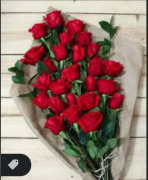RedRose: (80, 109, 105, 132), (76, 89, 103, 110), (61, 61, 81, 83), (102, 54, 125, 73), (30, 89, 50, 110), (41, 9, 64, 27), (51, 72, 69, 95), (22, 46, 45, 63), (107, 92, 128, 110), (62, 104, 81, 123), (69, 44, 87, 64), (27, 21, 48, 38), (45, 116, 64, 134), (100, 78, 121, 94), (52, 41, 69, 60), (87, 56, 104, 75), (68, 18, 87, 35), (35, 72, 53, 89), (57, 30, 73, 45), (87, 41, 102, 55), (78, 29, 91, 45)
